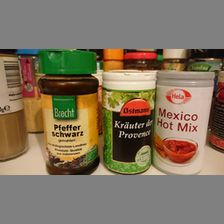spices: (38, 50, 99, 174), (153, 70, 214, 174), (102, 71, 157, 175)
